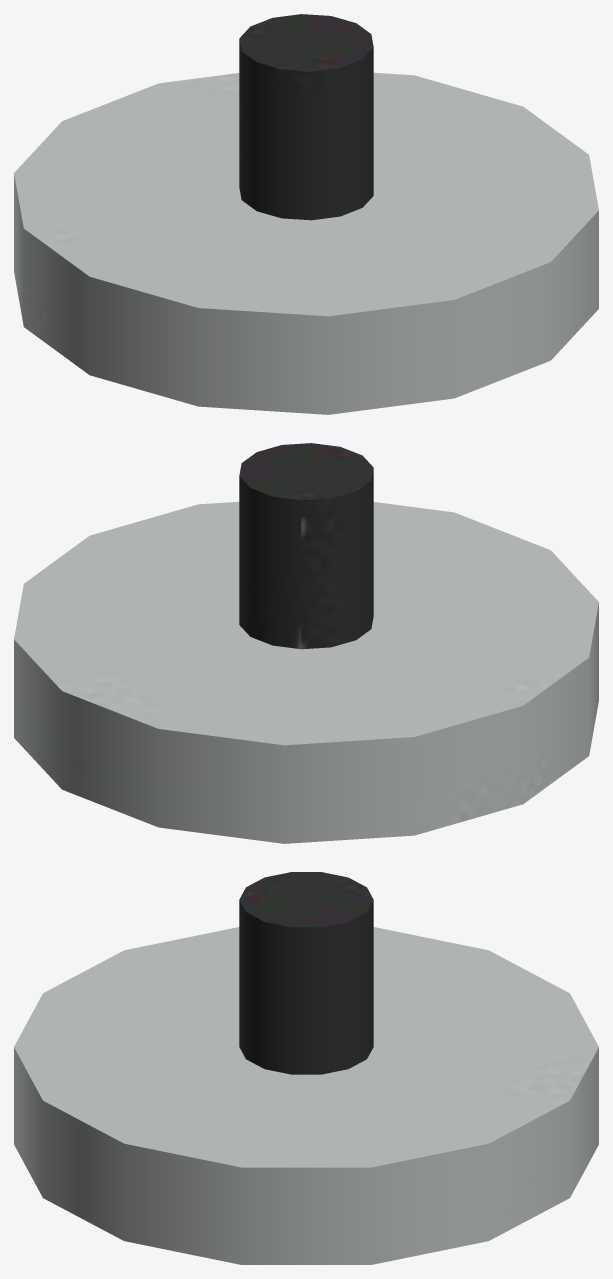
The model's file is tool_lever_pipe_expander_nozzle_04.glb.
The picture shows the model from 3 angles, top to bottom: view 1: azimuth 30°, elevation 25°; view 2: azimuth 150°, elevation 25°; view 3: azimuth 270°, elevation 25°; orthographic projection.
Visible parts, largest first — view 1: tool_lever_pipe_expander_nozzle_04; view 2: tool_lever_pipe_expander_nozzle_04; view 3: tool_lever_pipe_expander_nozzle_04.
Boxes of the visible parts, x1,y1,x2,y2 form: tool_lever_pipe_expander_nozzle_04: (14,14,598,414); tool_lever_pipe_expander_nozzle_04: (14,443,598,843); tool_lever_pipe_expander_nozzle_04: (14,872,598,1264).
Bounding box in the file's own units: 0.0698 × 0.033 × 0.0716.
1 material, 1 textured.
